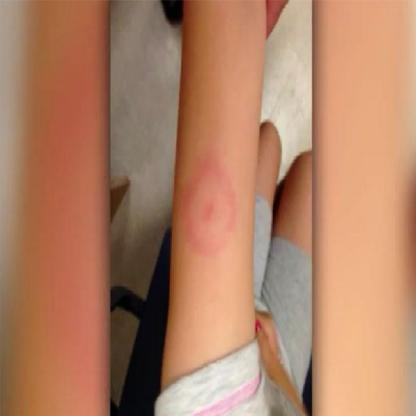Tick: (178, 151, 240, 261)
